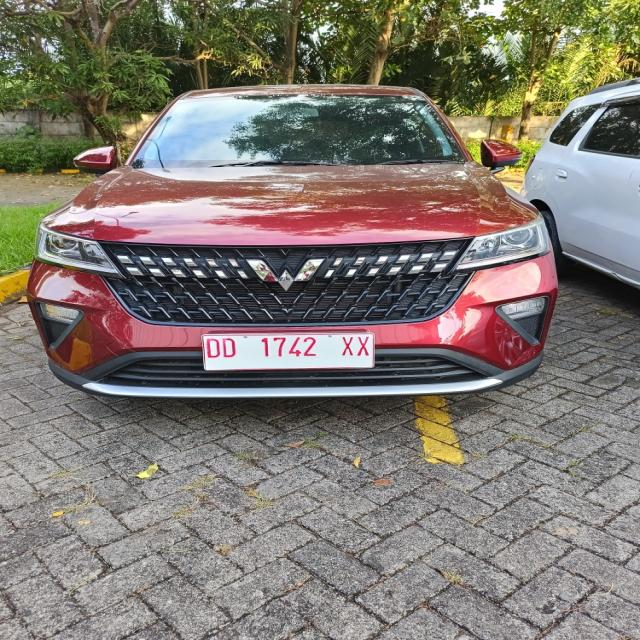plates: (198, 323, 384, 376)
